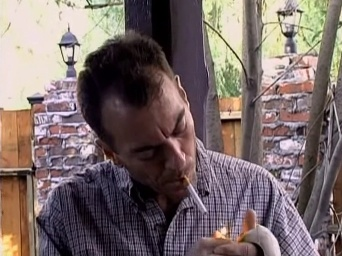smoke: (181, 173, 208, 216)
